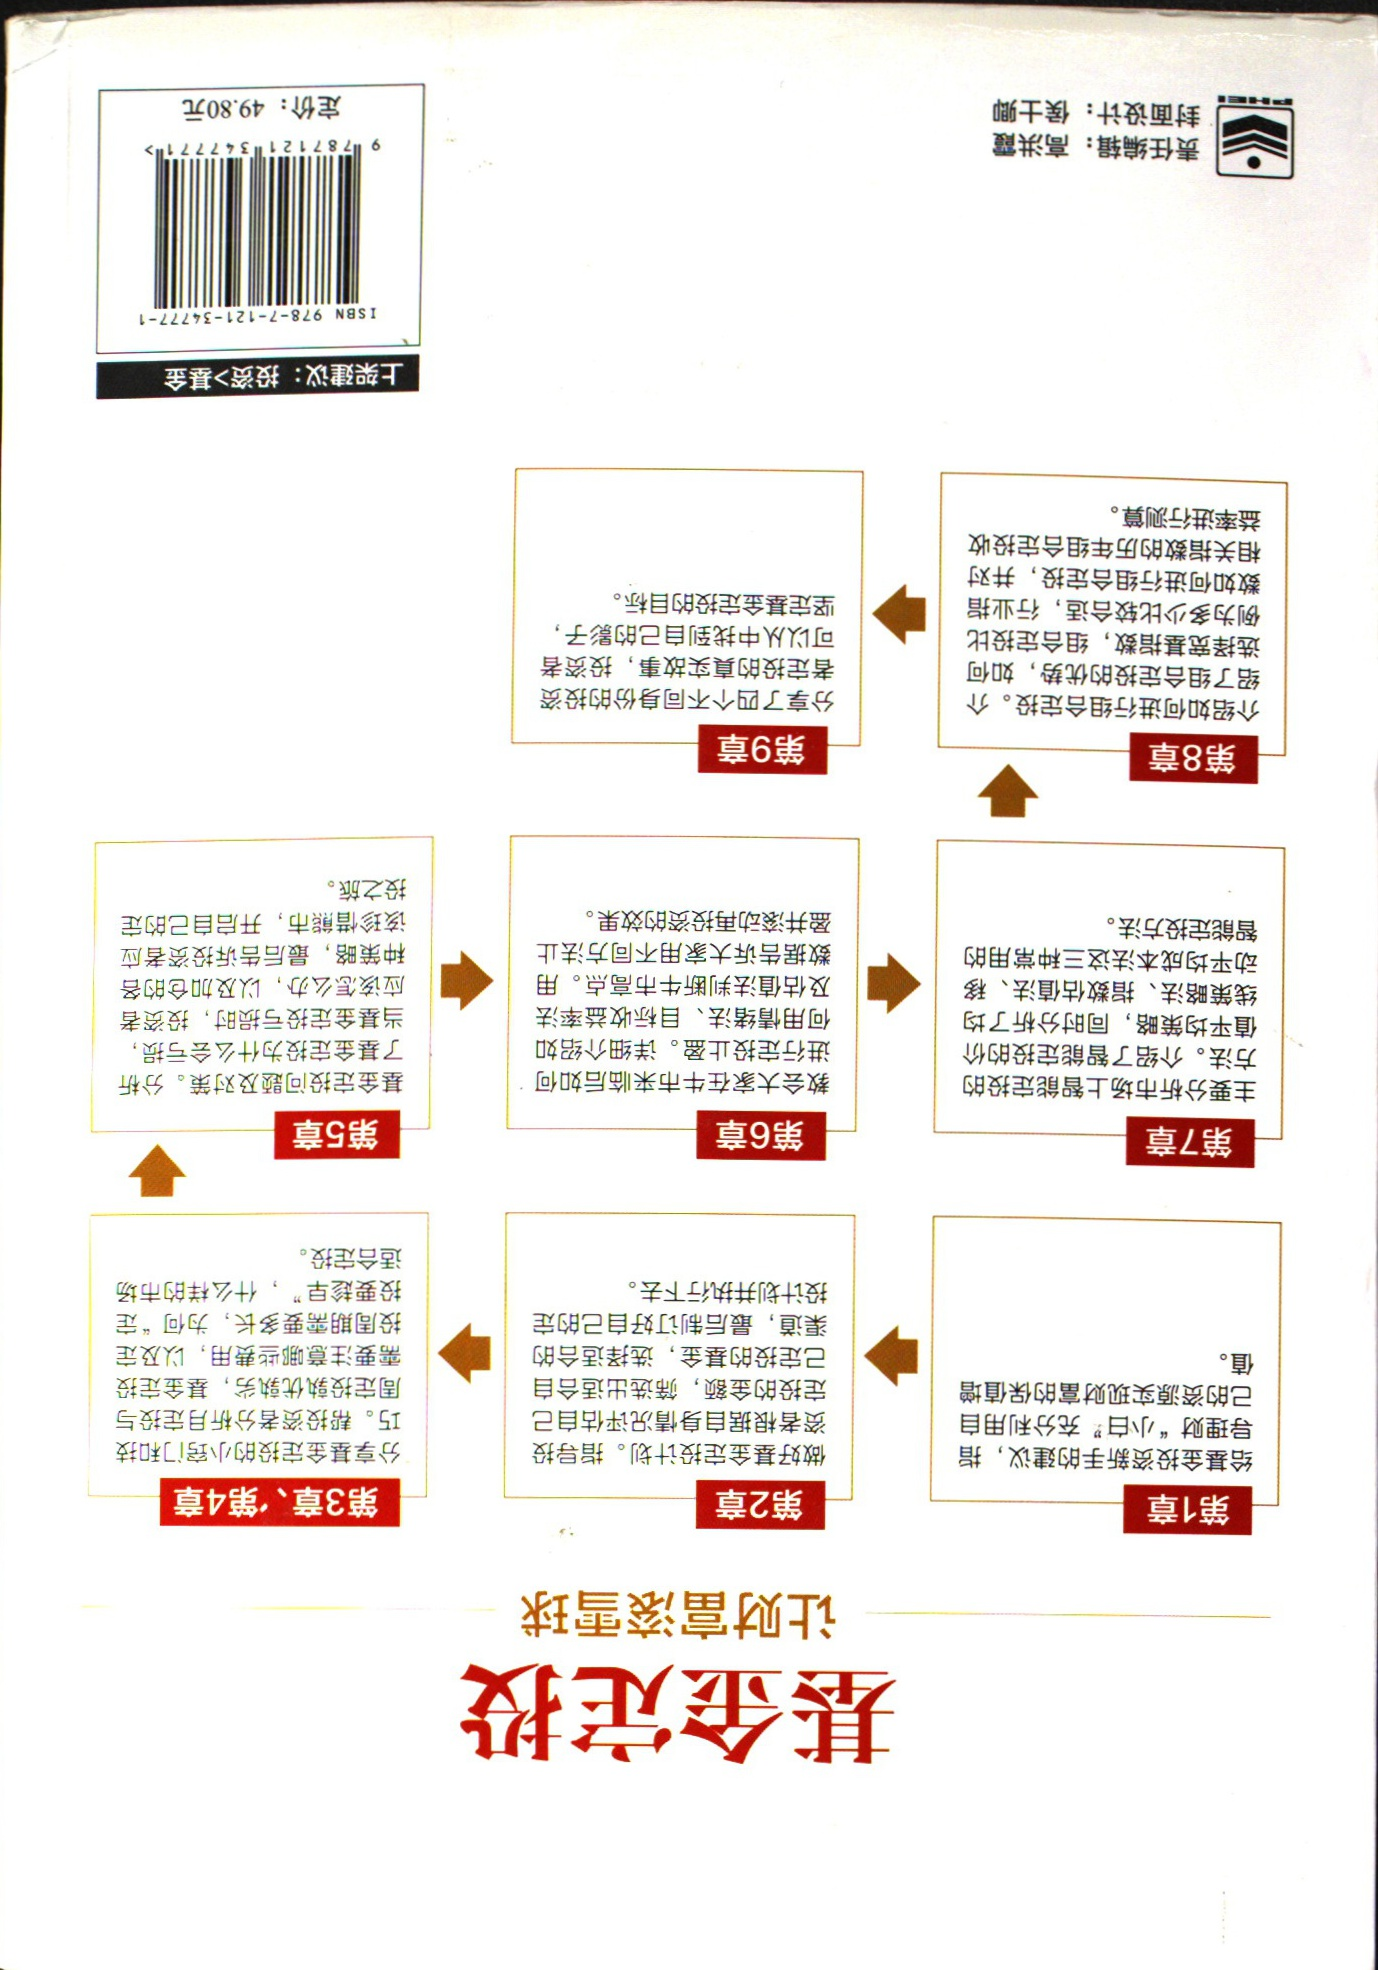barcode: (97, 88, 432, 406)
